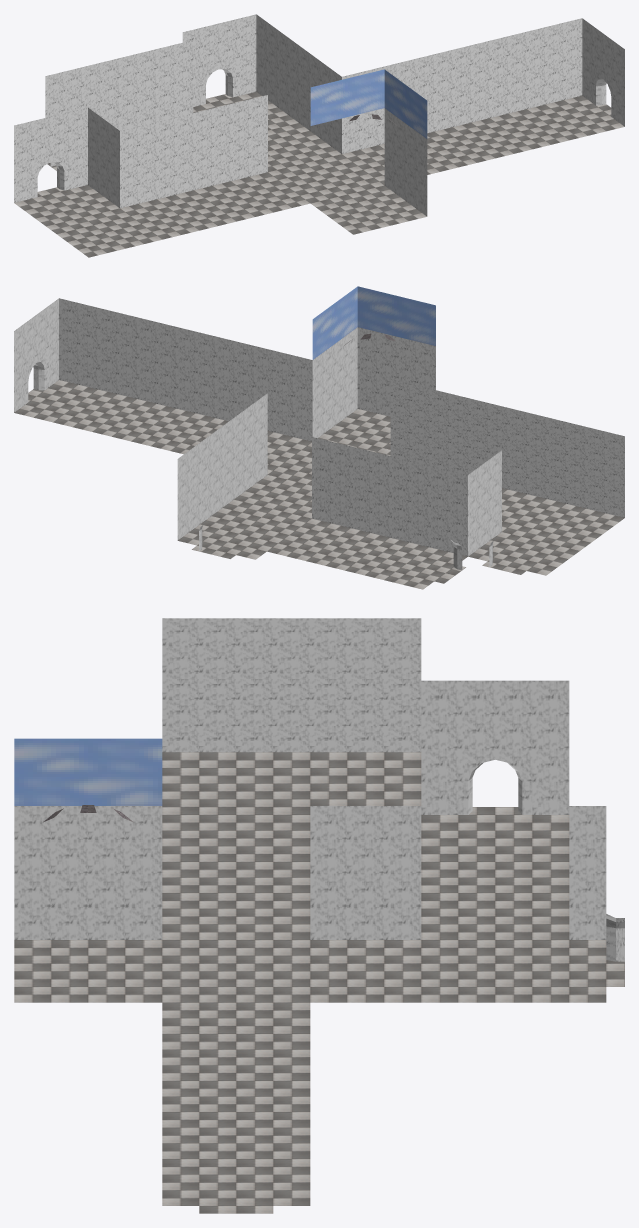
Rendered from Hallway5.glb.
3 renders of one model, top to bottom at view 1: azimuth 30°, elevation 25°; view 2: azimuth 150°, elevation 25°; view 3: azimuth 270°, elevation 25°, orthographic. The views are drawn at different scales.
Visible parts, largest first — view 1: Walls.004, Floor.004, Sky.004; view 2: Walls.004, Floor.004, Sky.004; view 3: Floor.004, Walls.004, Sky.004.
Boxes of the visible parts, x1,y1,x2,y2 form: Walls.004: [14, 14, 624, 216]; Floor.004: [14, 91, 624, 257]; Sky.004: [310, 69, 427, 138]; Walls.004: [14, 298, 624, 570]; Floor.004: [14, 380, 624, 589]; Sky.004: [312, 286, 435, 359]; Floor.004: [14, 752, 624, 1213]; Walls.004: [14, 618, 624, 961]; Sky.004: [14, 738, 162, 805].
Bounding box in the file's own units: 29.5 × 6 × 16.51.
Materials: 4 (4 with a texture image).
